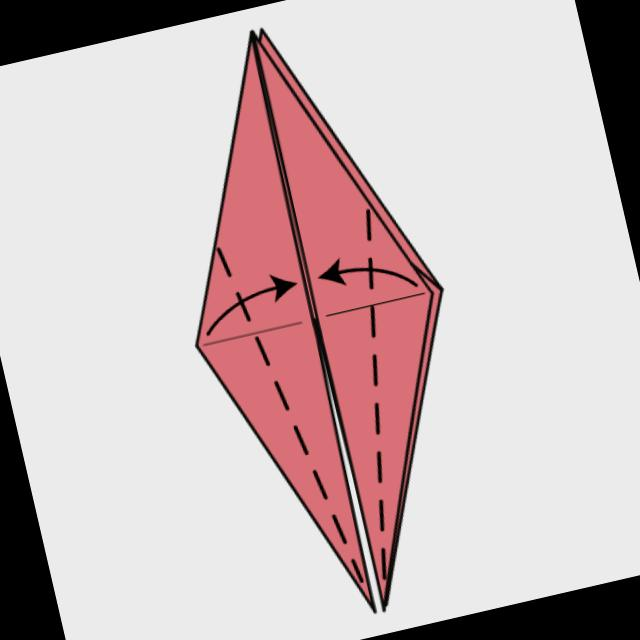arrow: (207, 275, 296, 335), (320, 260, 417, 286)
fold-line: (196, 231, 390, 606), (348, 197, 404, 594)
